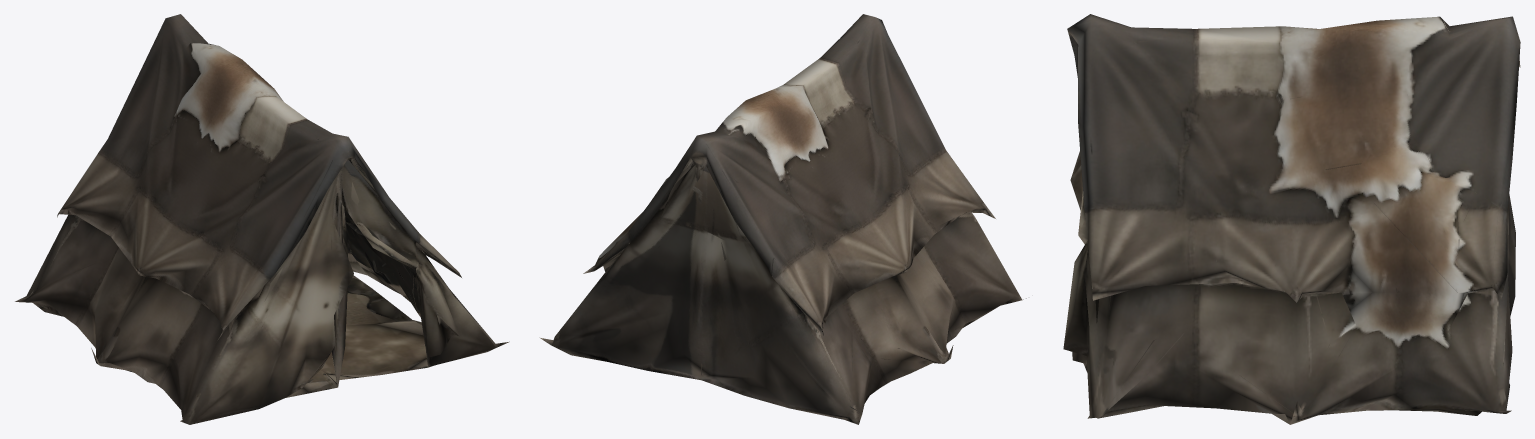
File: Meshy_AI_tent_medieval_0218210613_texture.fbx
The picture shows the model from 3 angles, left to right: view 1: azimuth 30°, elevation 25°; view 2: azimuth 150°, elevation 25°; view 3: azimuth 270°, elevation 25°; orthographic projection. The views are drawn at different scales.
Parts seen in each view (by area): view 1: Mesh1.0; view 2: Mesh1.0; view 3: Mesh1.0.
Part boxes in pixels (x1=…): Mesh1.0: x1=15, y1=14, x2=509, y2=424; Mesh1.0: x1=539, y1=14, x2=1026, y2=424; Mesh1.0: x1=1063, y1=14, x2=1520, y2=424.
Size of the model in its own units: 121 by 87.27 by 115.
Materials: 1 (1 with a texture image).
